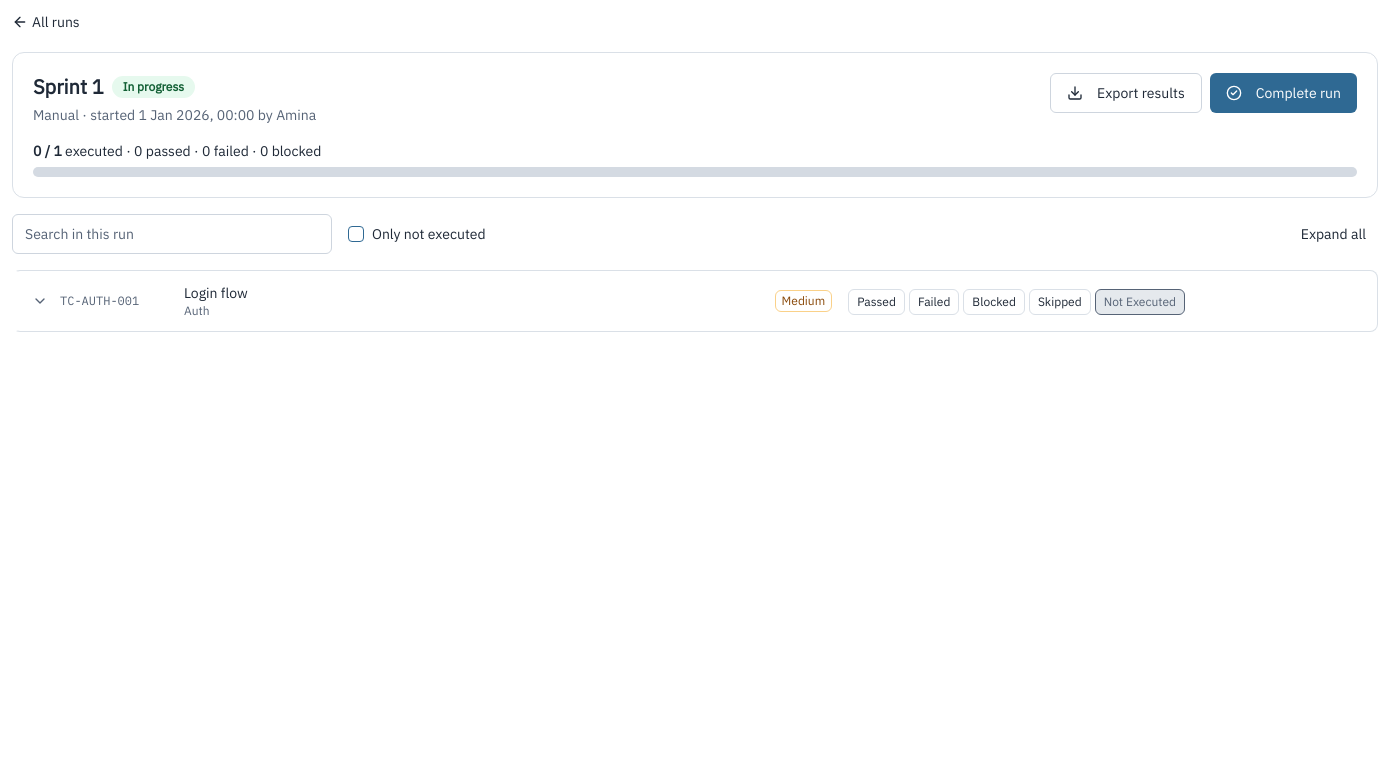
Test: RunPage › keeps the loaded results (and unsaved text) mounted when a background refresh fails
Click the button "TC-AUTH-001 Login flow Auth" at x=100, y=300, box 32,283 -> 759,319
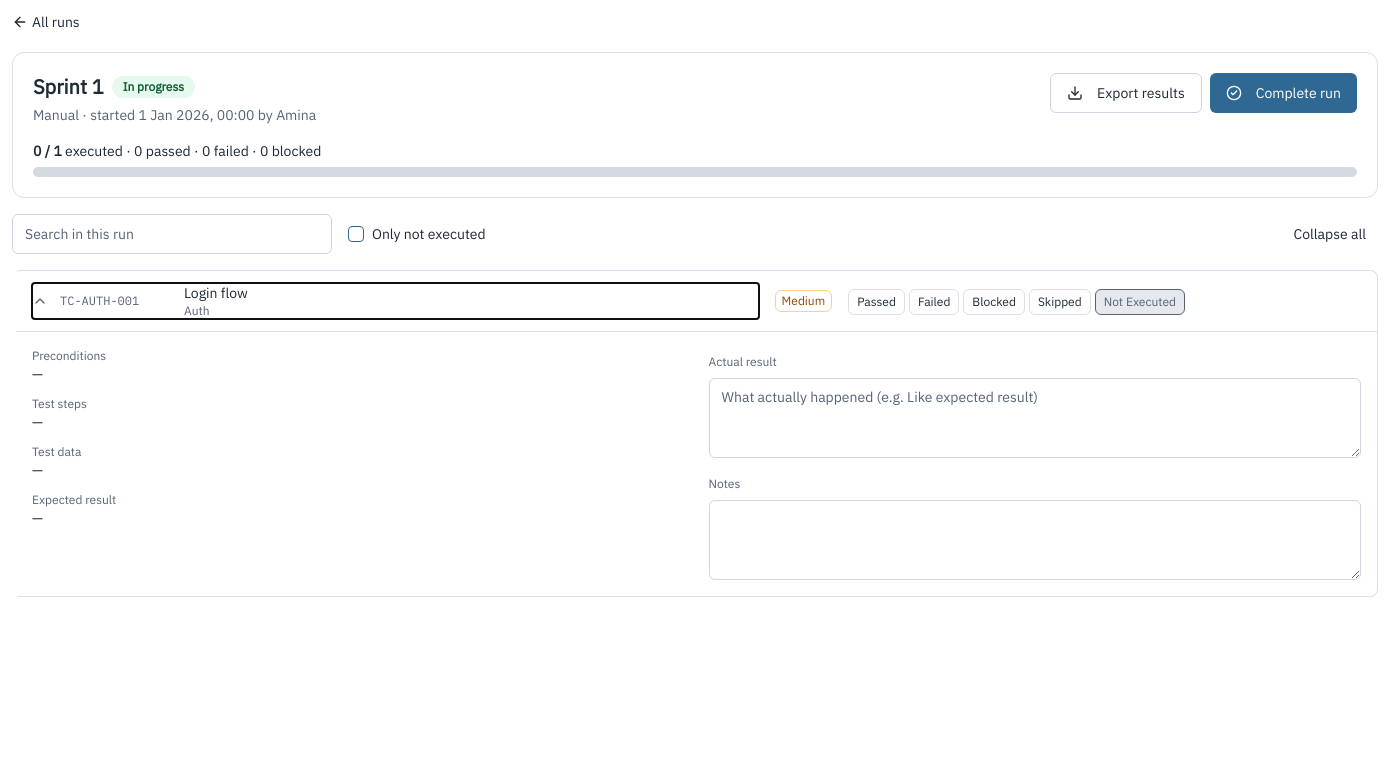
Type "Button does nothing" into the text box labelled "Actual result" at x=1035, y=418, box 708,378 -> 1361,458
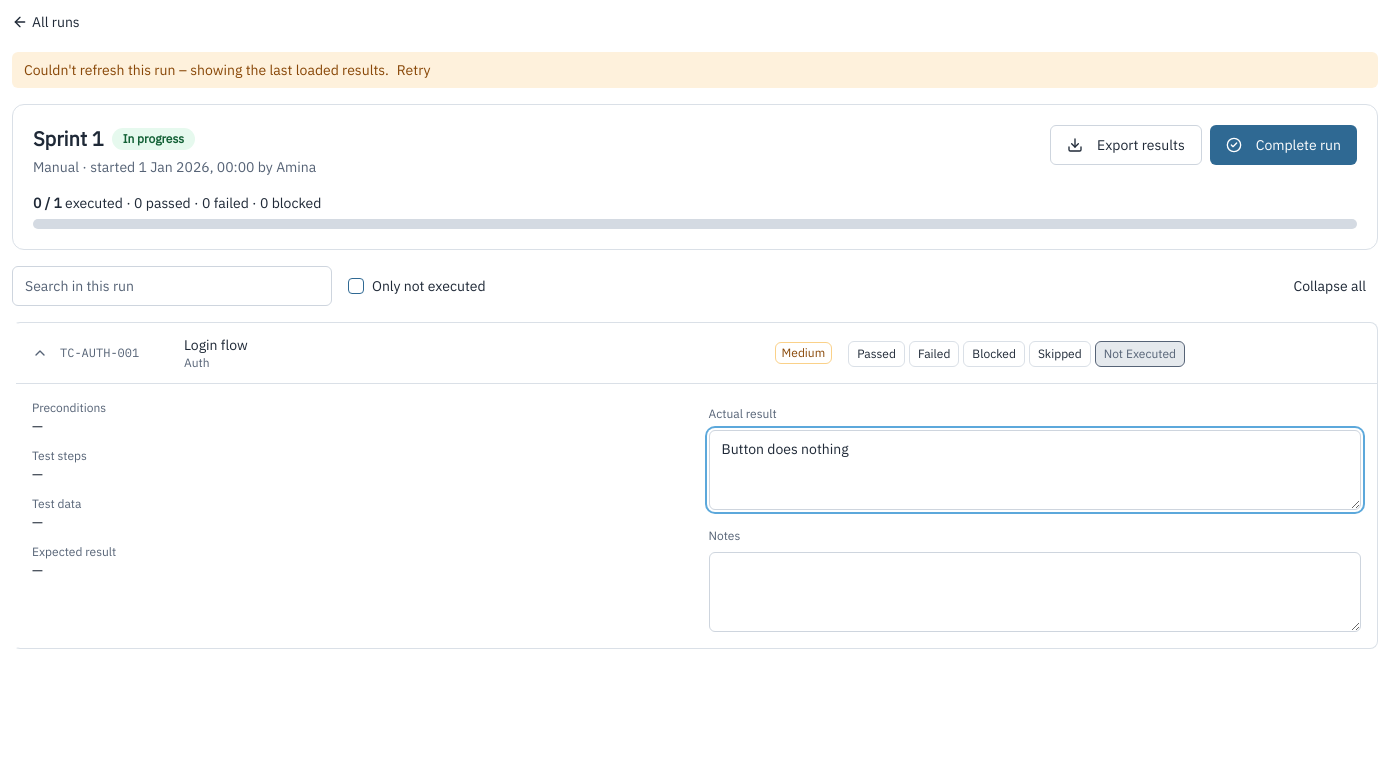
Check: the text "Couldn't refresh this run – showing the last loaded results. Retry" is shown, box 12,52 -> 1378,88
